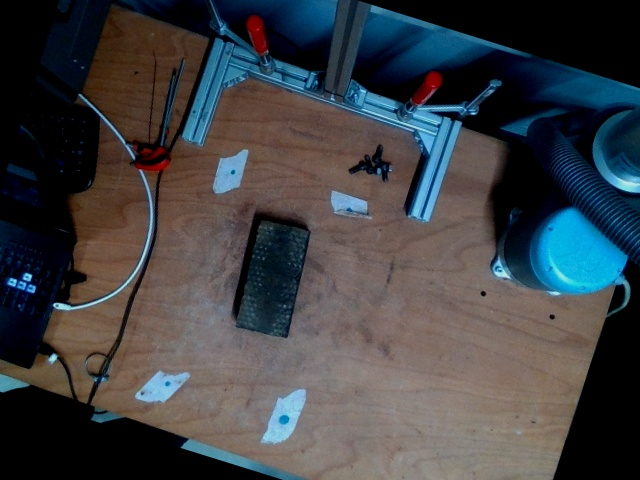brick: (234, 217, 308, 339)
